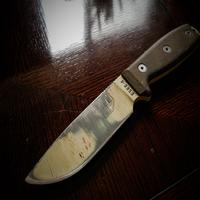knife: (20, 24, 190, 189)
